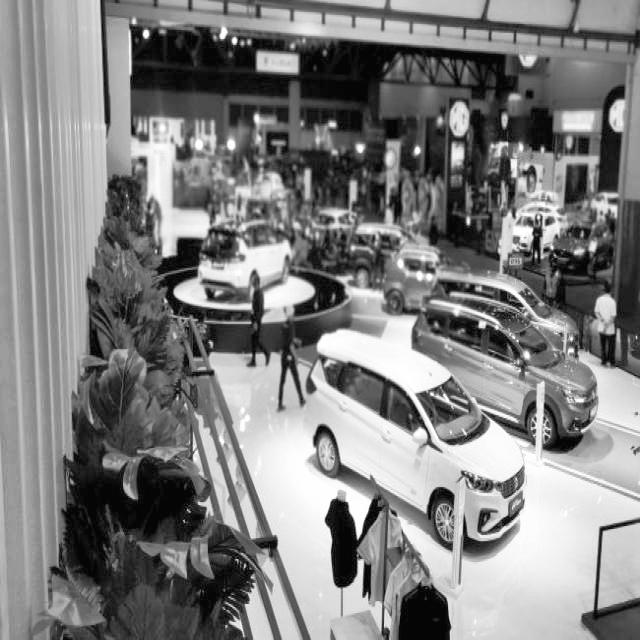Car: (312, 329, 530, 547), (416, 241, 602, 451), (198, 213, 302, 293)
